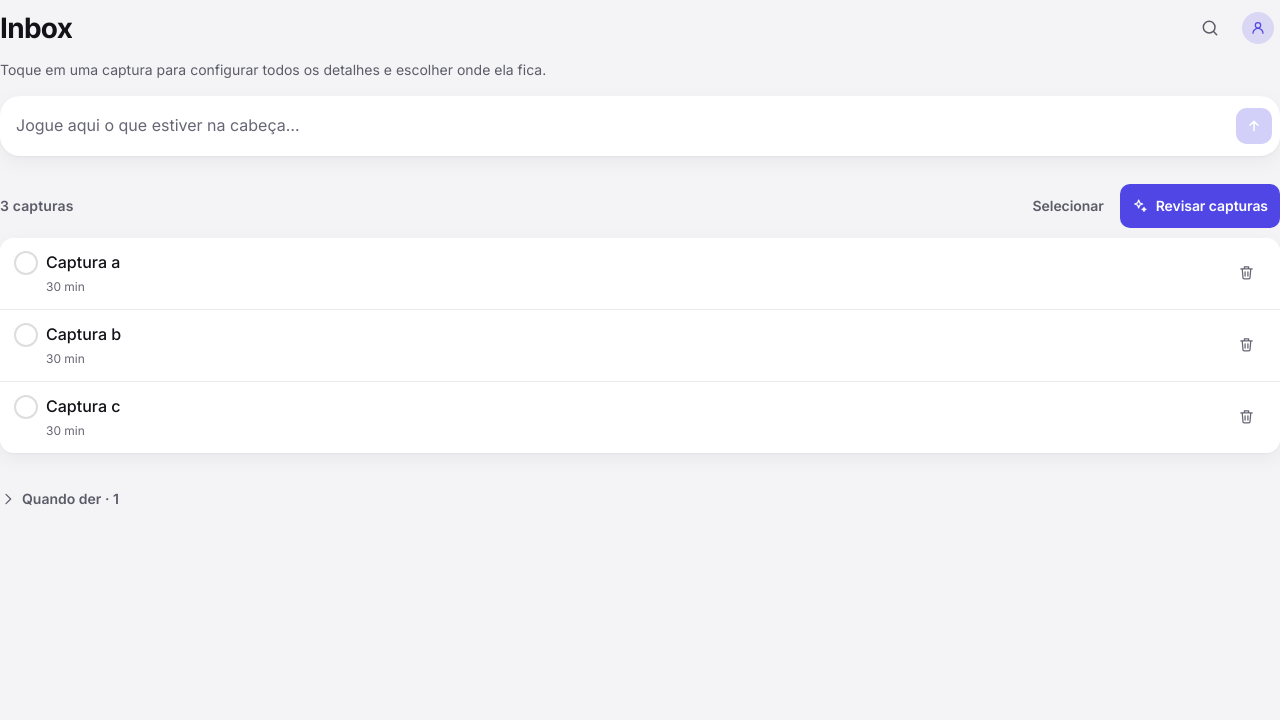
Test: não mostra sucesso nem permite confirmar se todos deixaram de ser elegíveis
Click the button "Selecionar" at (1068, 206), box 1021,184 -> 1116,228
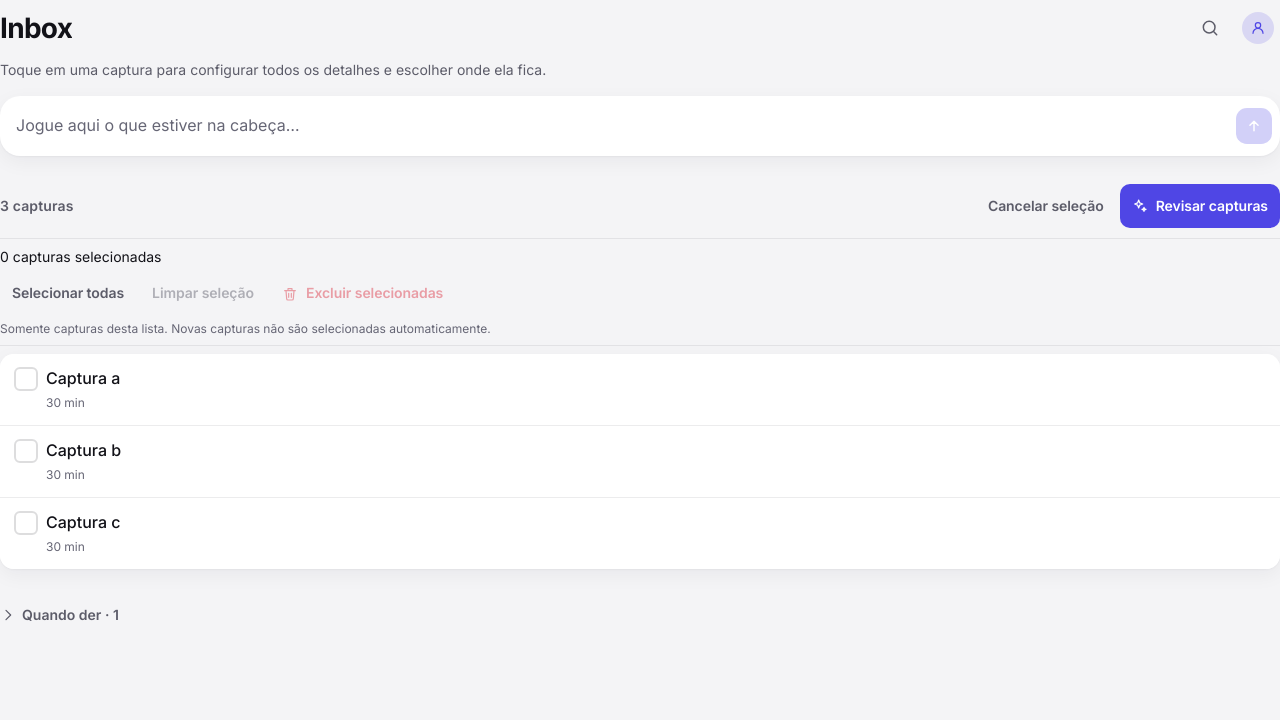
Click the checkbox labelled "Captura a 30 min" at (83, 378), box 0,354 -> 1279,425
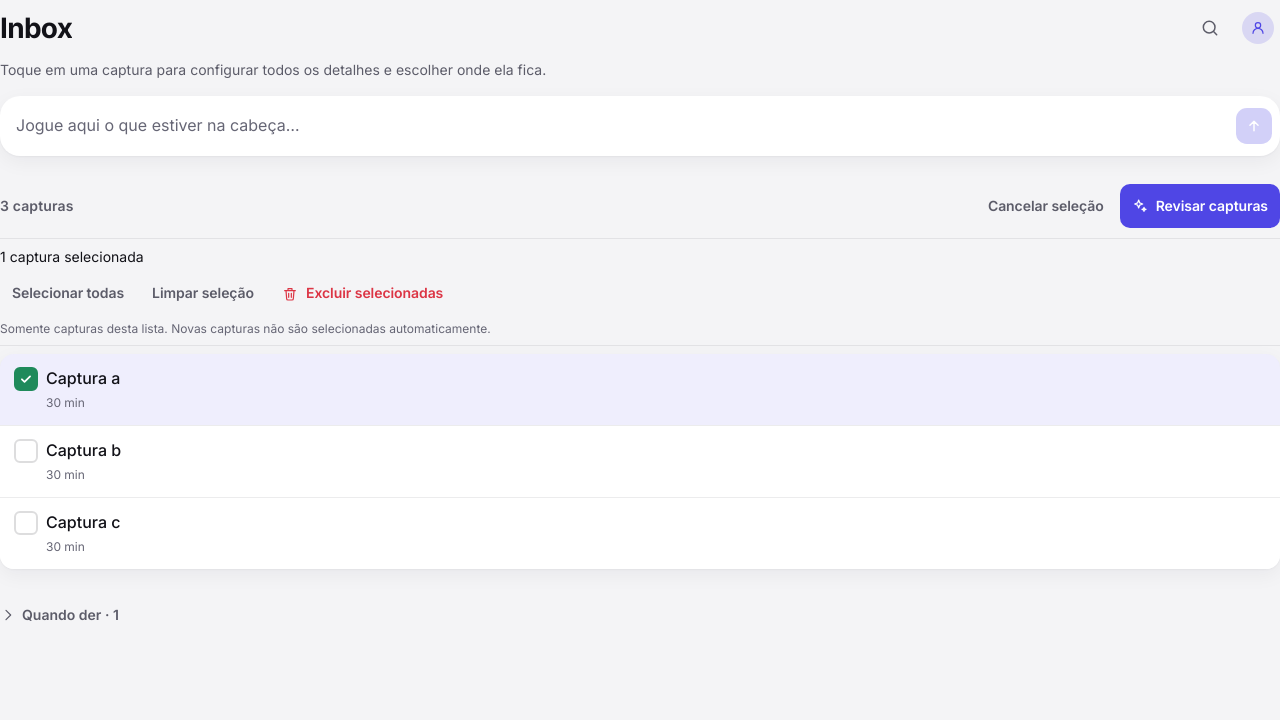
Click the button "Excluir selecionadas" at (363, 294), box 270,272 -> 455,316
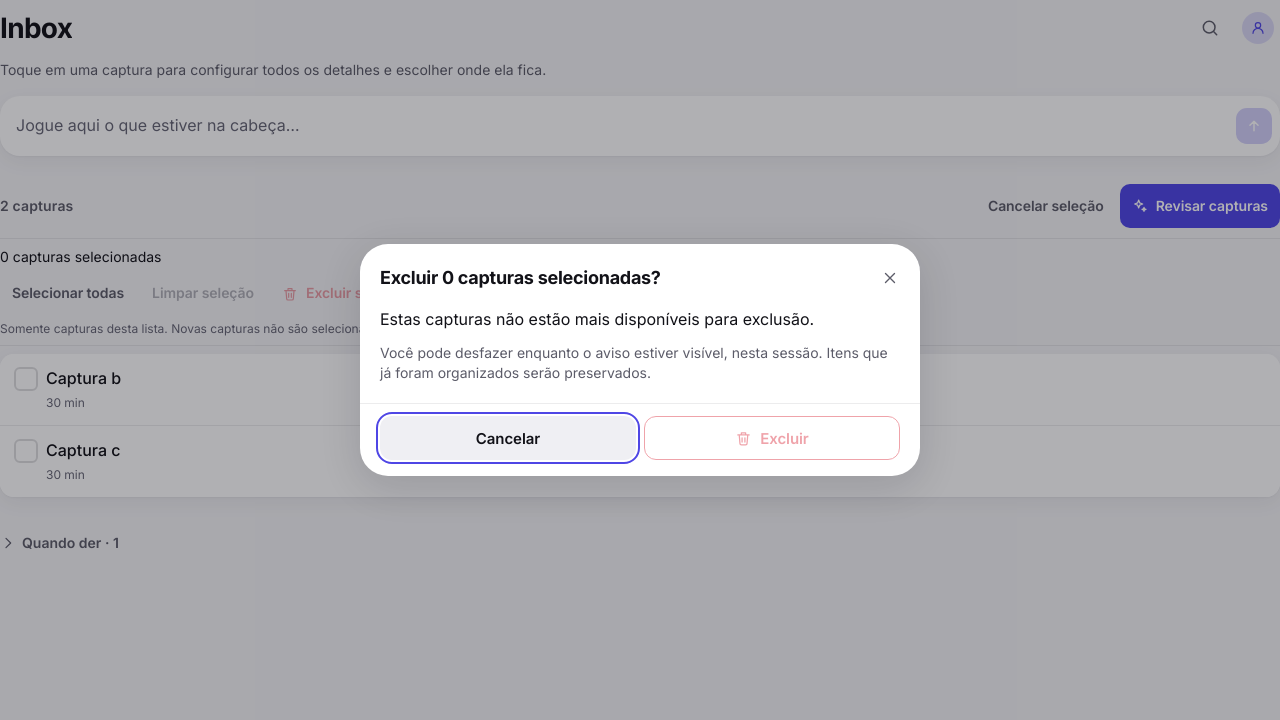
Check: the button "Excluir" is disabled, box 644,416 -> 900,460
Check: the text "não estão mais disponíveis" is shown, box 380,309 -> 814,329
